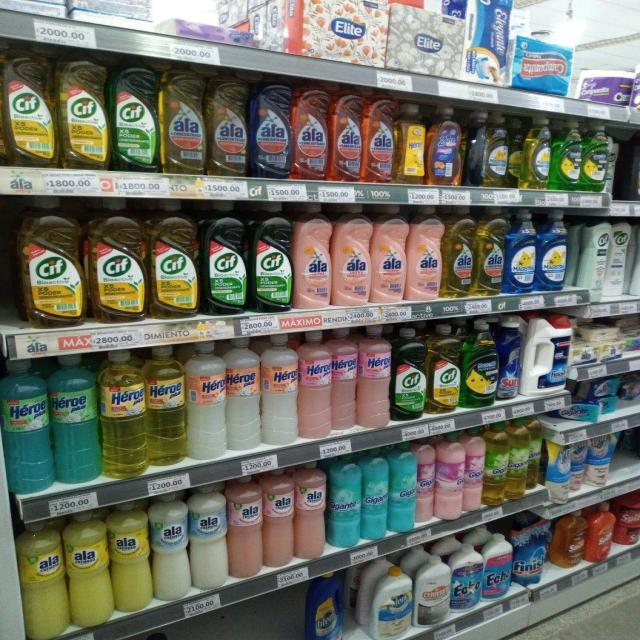ala_conc_amarillo: (160, 70, 207, 175), (208, 76, 249, 177), (444, 205, 474, 299), (475, 206, 504, 296)
ala_conc_azul: (251, 83, 291, 179)
ala_conc_rojo: (292, 86, 329, 181), (330, 90, 363, 182), (364, 94, 396, 184)
ala_crem_amarillo: (19, 518, 65, 639), (66, 508, 109, 627), (110, 500, 150, 613)
ala_crem_blanco: (152, 490, 190, 601), (190, 483, 228, 590)
ala_crem_rosado: (228, 474, 262, 579), (294, 461, 326, 560), (263, 467, 294, 568)
ala_ultra_rosa: (294, 202, 332, 310), (332, 203, 370, 307), (372, 203, 406, 304), (407, 204, 442, 302)
cif_conc_bot_amarilla: (17, 195, 84, 328), (88, 196, 147, 323), (4, 48, 56, 168), (150, 198, 199, 320), (58, 56, 109, 170), (428, 324, 460, 414)
cif_conc_botella_verde: (202, 199, 248, 315), (112, 64, 158, 173), (251, 200, 292, 313), (392, 326, 426, 420)
gigante: (328, 455, 361, 548), (435, 433, 463, 519), (389, 443, 416, 532), (362, 451, 388, 540), (484, 424, 507, 506), (464, 429, 484, 513), (508, 421, 528, 500), (417, 440, 435, 524), (527, 421, 542, 495)
heroe: (2, 356, 51, 493), (51, 352, 99, 483), (100, 348, 145, 478), (146, 343, 186, 468), (186, 340, 226, 461), (261, 331, 298, 446), (227, 336, 260, 454), (357, 324, 391, 428), (299, 329, 331, 439), (332, 328, 356, 432)
magistral_con_amarillo: (479, 111, 508, 188), (524, 116, 551, 190)
magistral_con_azul: (505, 208, 536, 294), (538, 210, 569, 292)
magistral_con_verde: (468, 318, 501, 406), (557, 118, 583, 187), (586, 119, 606, 194)
zorro: (427, 105, 464, 186)
